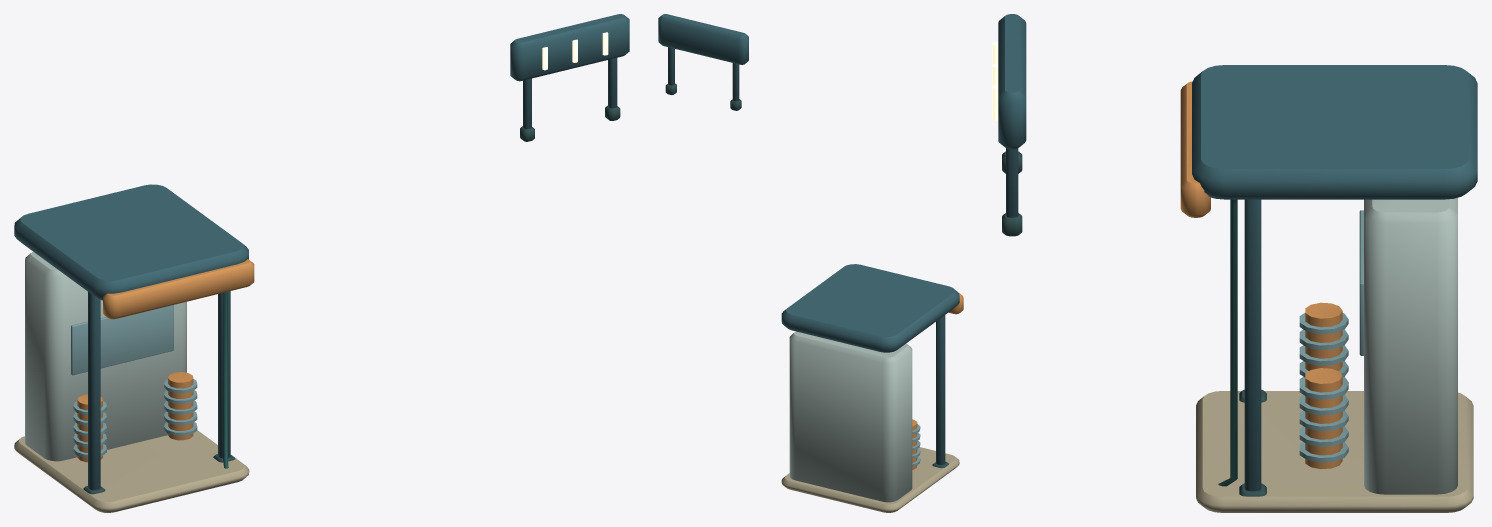
The model's file is harbor_truck_wash_4.glb.
3 views of the same model, side by side, from view 1: azimuth 30°, elevation 25°; view 2: azimuth 150°, elevation 25°; view 3: azimuth 270°, elevation 25° (orthographic). The views are drawn at different scales.
Visible parts, largest first — view 1: HarborTruckWash4; view 2: HarborTruckWash4; view 3: HarborTruckWash4.
Boxes of the visible parts, x1,y1,x2,y2 form: HarborTruckWash4: [14, 14, 629, 512]; HarborTruckWash4: [658, 14, 963, 512]; HarborTruckWash4: [992, 14, 1477, 512].
Bounding box in the file's own units: 7.09 × 6.35 × 4.33.
